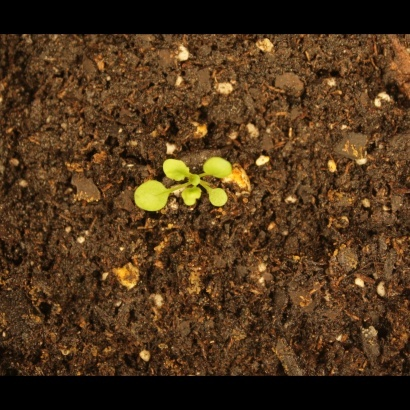leaf: (131, 179, 170, 220), (202, 153, 235, 184), (161, 153, 190, 183), (179, 184, 203, 215), (185, 168, 208, 191), (207, 187, 230, 210)
